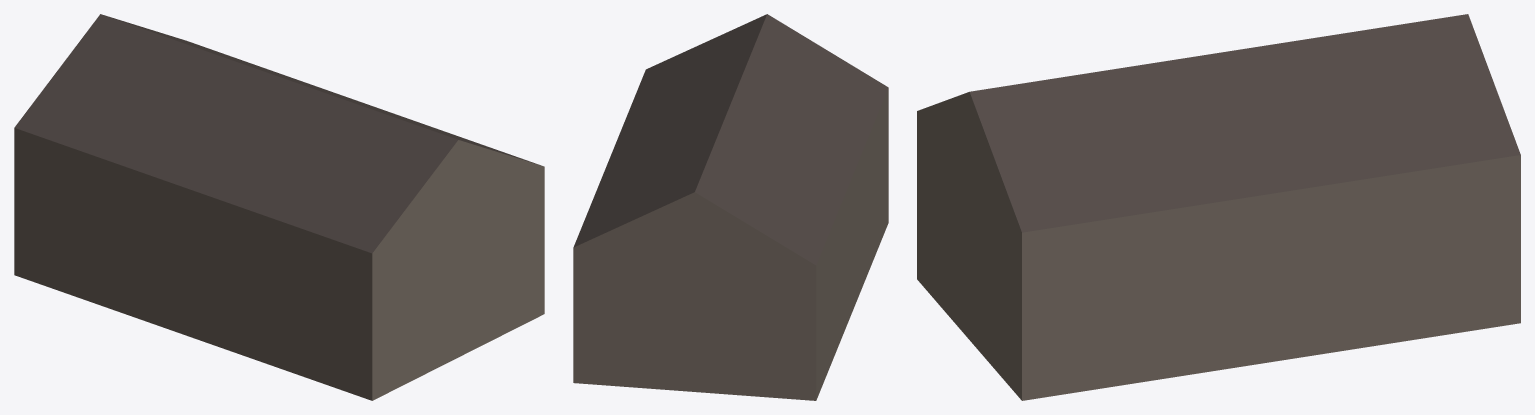
3 renders of one model, left to right at view 1: azimuth 30°, elevation 25°; view 2: azimuth 150°, elevation 25°; view 3: azimuth 270°, elevation 25°, orthographic. The views are drawn at different scales.
Visible parts, largest first — view 1: HP-w369317462; view 2: HP-w369317462; view 3: HP-w369317462.
Boxes of the visible parts, box(x1,y1,x2,y2) form: HP-w369317462: box(14, 14, 544, 400); HP-w369317462: box(573, 14, 888, 400); HP-w369317462: box(917, 14, 1520, 400).
Size of the model in its own units: 15.25 by 8.86 by 19.51.
